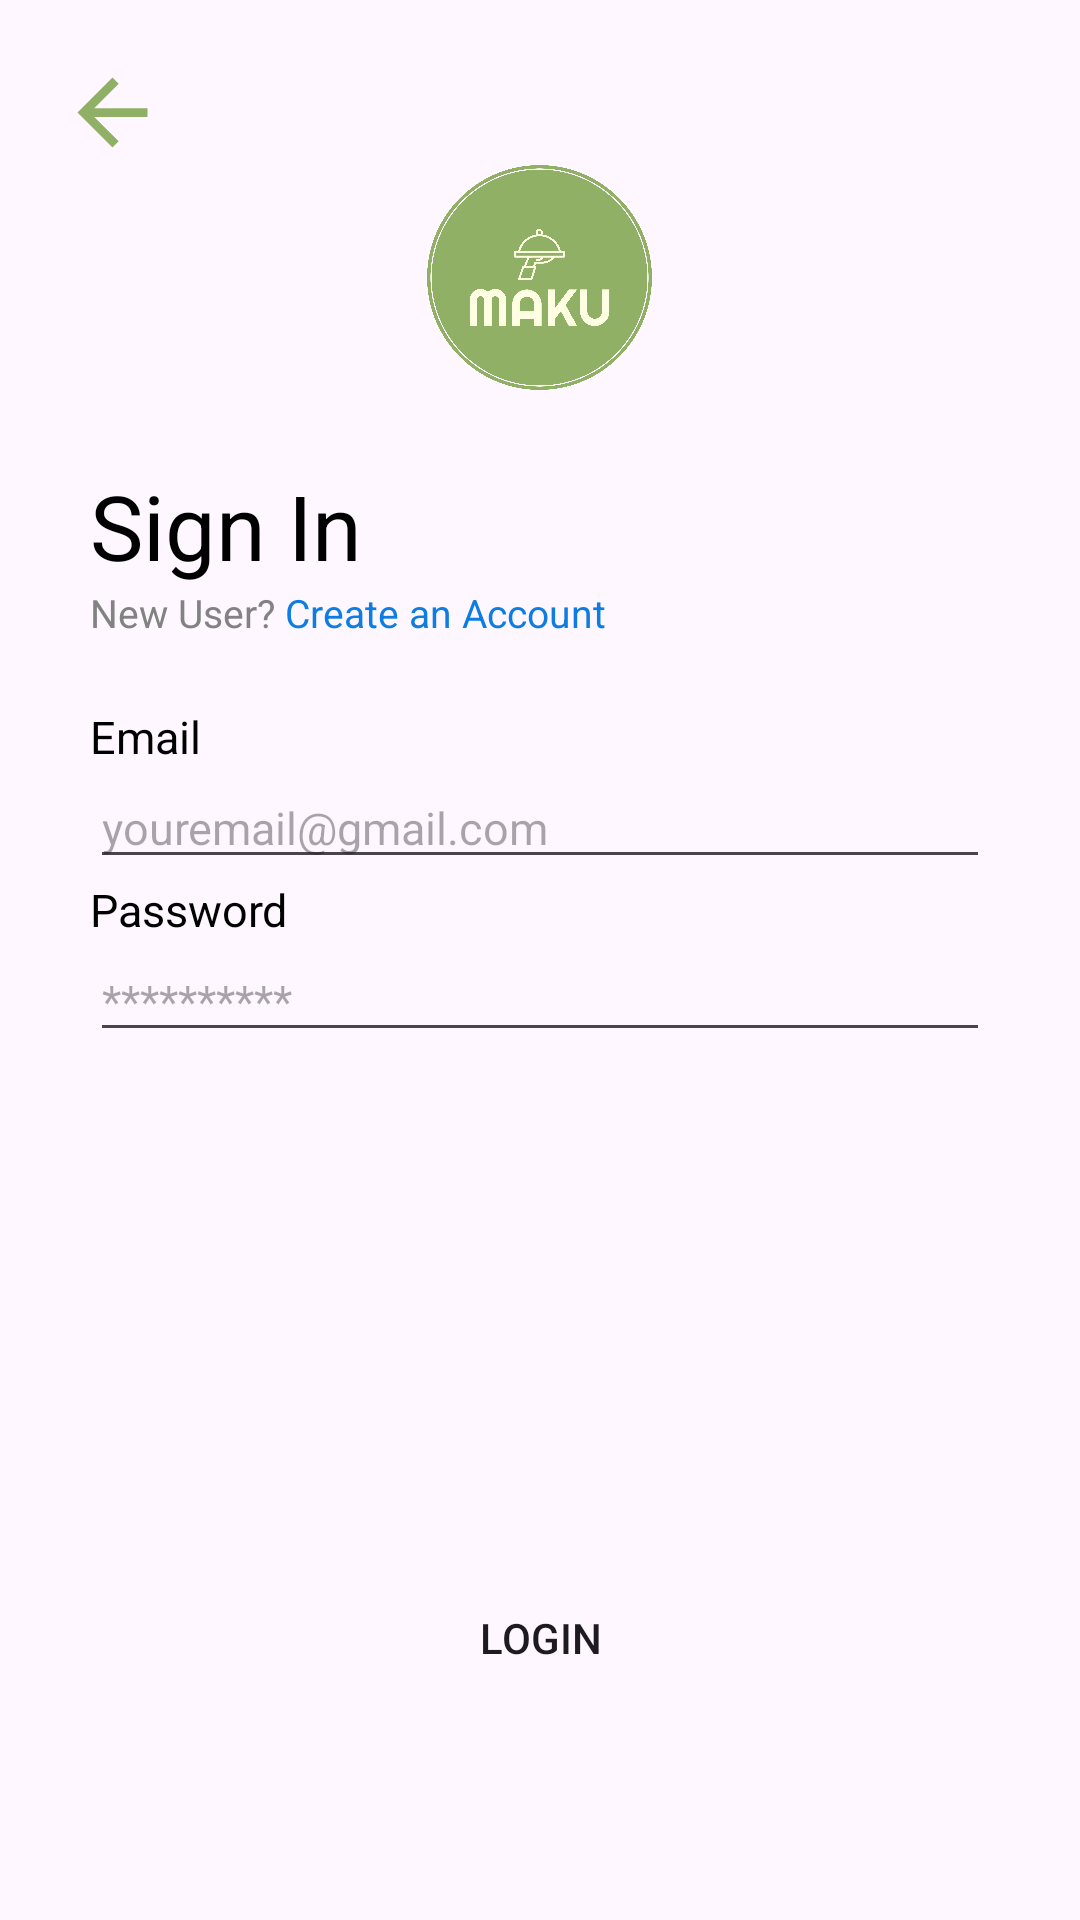

Screen size 1080w x 1920h. Icon name, then its box in pixels as {"left": x1, "top": y1, "right": x2, "bottom": y2}:
arrow back: {"left": 77, "top": 77, "right": 148, "bottom": 148}
